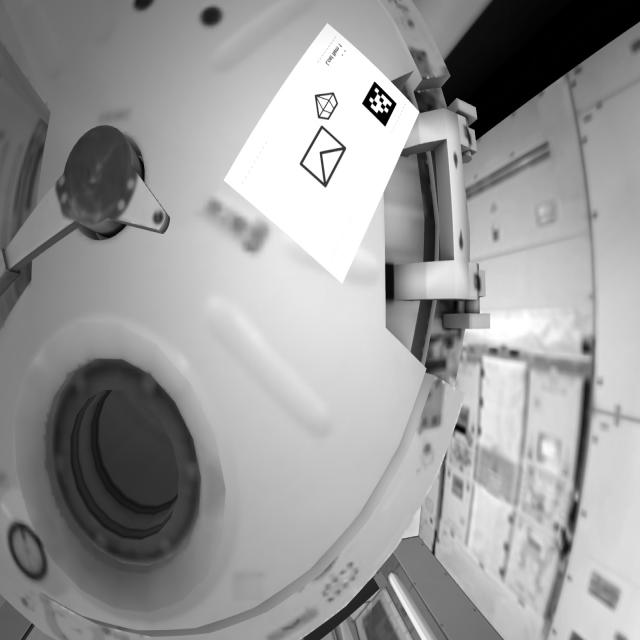diamond: (310, 88, 344, 128)
letter: (296, 120, 355, 195)
